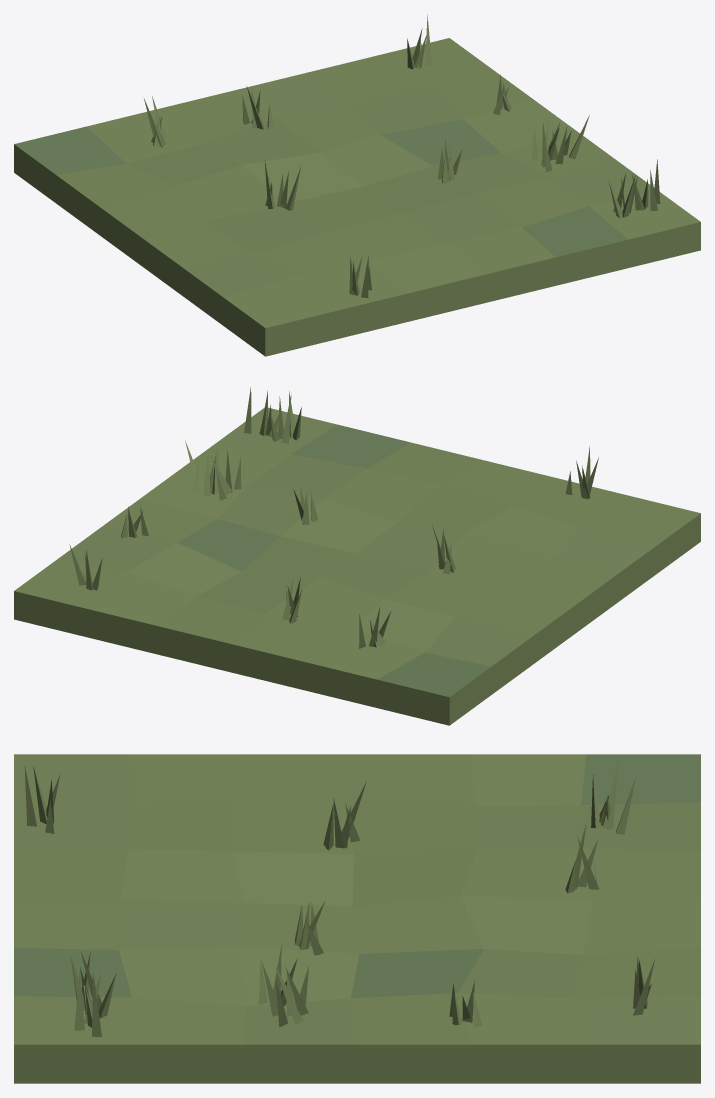
Rendered from ground_grass_b.glb.
3 views of the same model, one above another, from view 1: azimuth 30°, elevation 25°; view 2: azimuth 150°, elevation 25°; view 3: azimuth 270°, elevation 25° (orthographic). The views are drawn at different scales.
Parts seen in each view (by area): view 1: ground_grass_b; view 2: ground_grass_b; view 3: ground_grass_b.
Part boxes in pixels (x1,y1,x2,y2): ground_grass_b: [14, 14, 700, 356]; ground_grass_b: [14, 387, 700, 725]; ground_grass_b: [14, 754, 700, 1083].
Size of the model in its own units: 4 by 0.6585 by 4.
